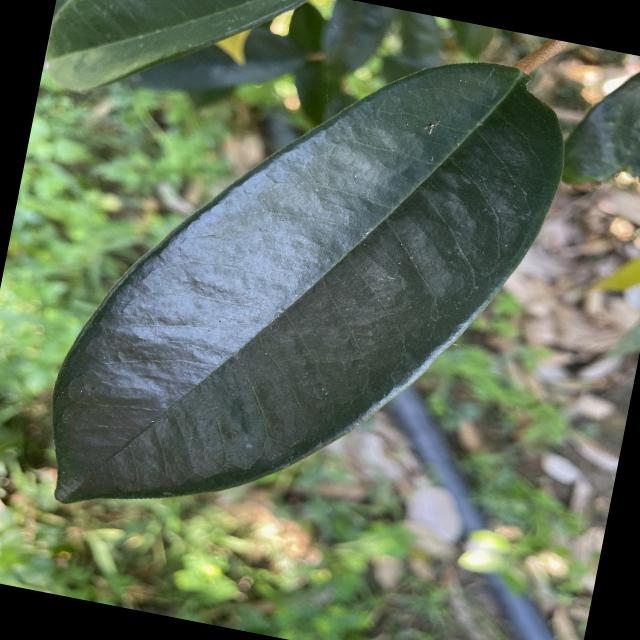No Disease: (20, 0, 592, 594)
